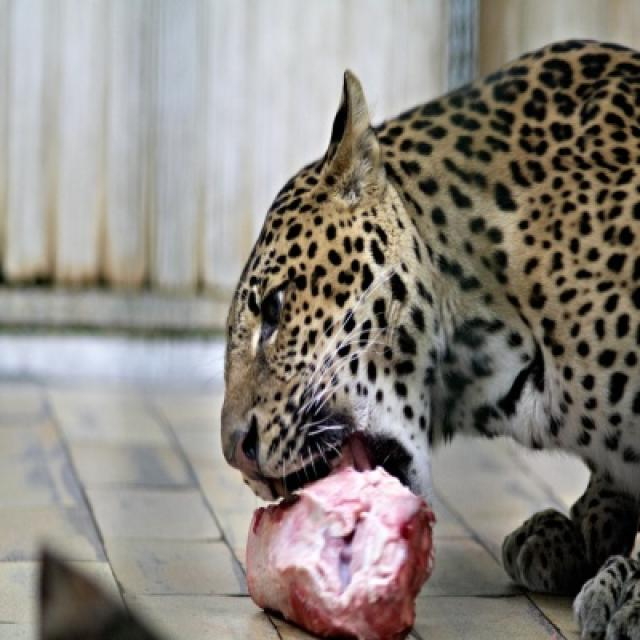Jaguar: (219, 38, 638, 638)
